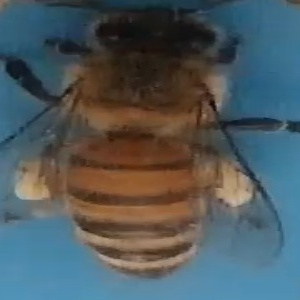bee: (13, 5, 290, 277)
